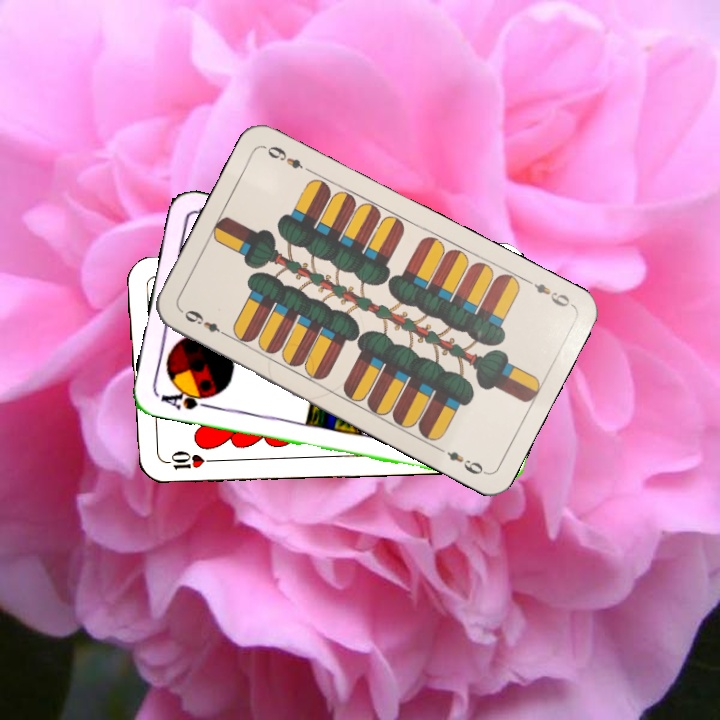E9: (521, 274, 575, 310), (180, 306, 232, 340)
H10: (159, 448, 218, 472)
SA: (156, 384, 216, 413)
